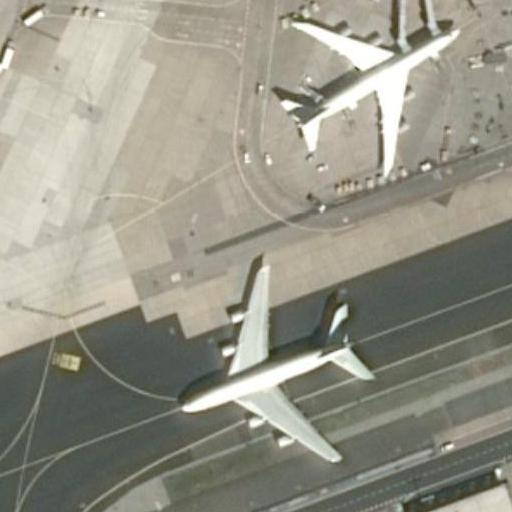Aircraft: (168, 251, 384, 470), (260, 2, 465, 176), (0, 0, 12, 151)
